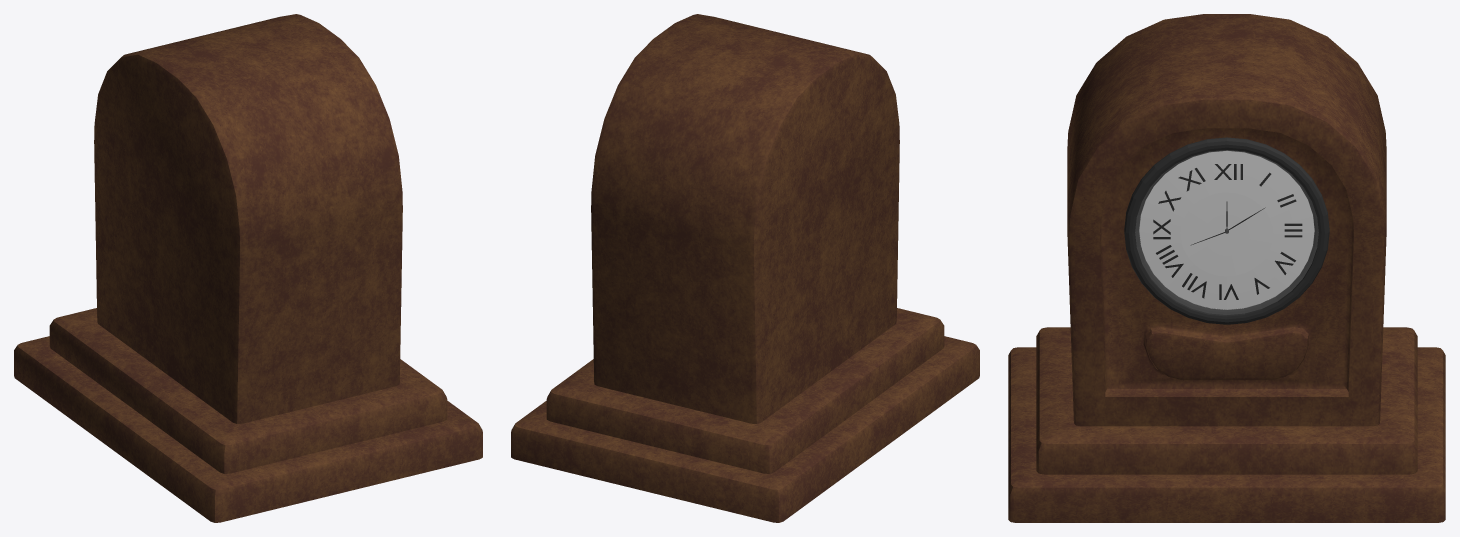
The model's file is mantleclock.fbx.
3 views of the same model, side by side, from view 1: azimuth 30°, elevation 25°; view 2: azimuth 150°, elevation 25°; view 3: azimuth 270°, elevation 25° (orthographic). The views are drawn at different scales.
Parts seen in each view (by area): view 1: Cube.004; view 2: Cube.004; view 3: Cube.004, clockface.001, clockface.002.
Boxes of the visible parts, left/top/right/bottom form: Cube.004: left=14, top=14, right=482, bottom=522; Cube.004: left=511, top=14, right=979, bottom=522; Cube.004: left=1008, top=14, right=1445, bottom=522; clockface.001: left=1124, top=137, right=1329, bottom=324; clockface.002: left=1135, top=150, right=1318, bottom=314.
Size of the model in its own units: 155 by 200 by 200.
